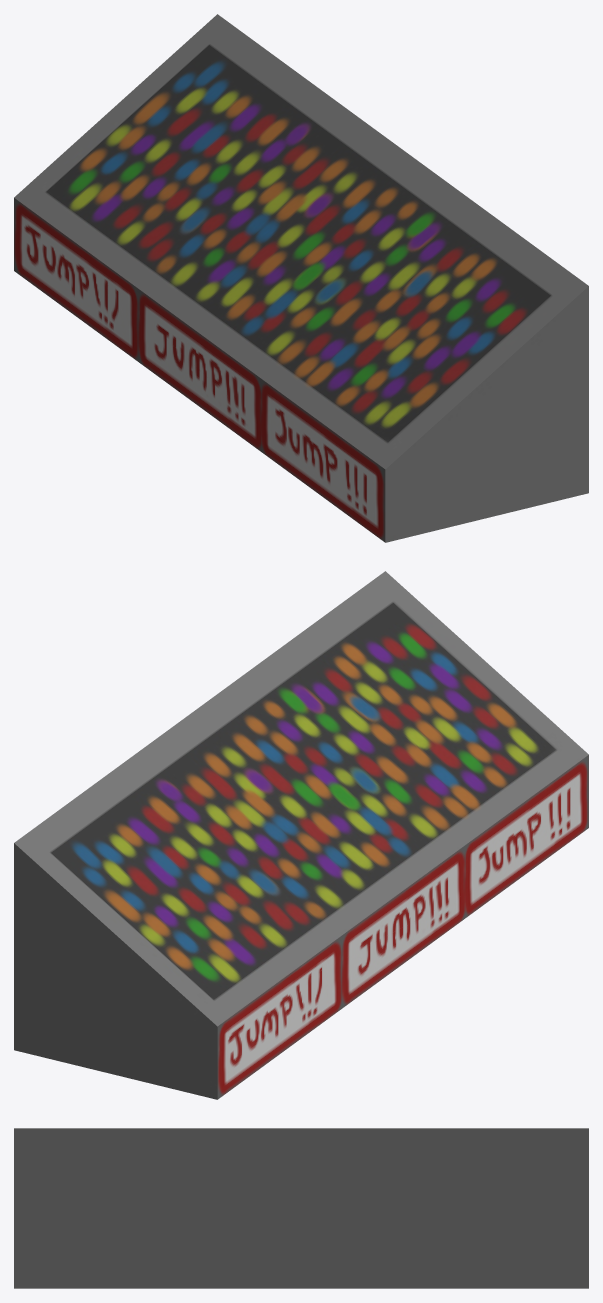
Rendered from Stadium.fbx.
The picture shows the model from 3 angles, top to bottom: view 1: azimuth 30°, elevation 25°; view 2: azimuth 150°, elevation 25°; view 3: azimuth 270°, elevation 25°; orthographic projection. The views are drawn at different scales.
Visible parts, largest first — view 1: Stadium; view 2: Stadium; view 3: Stadium.
Boxes of the visible parts, bbox=[...] form: Stadium: bbox=[14, 14, 588, 542]; Stadium: bbox=[14, 571, 588, 1099]; Stadium: bbox=[14, 1128, 588, 1288].
Size of the model in its own units: 45.07 by 43.86 by 142.
